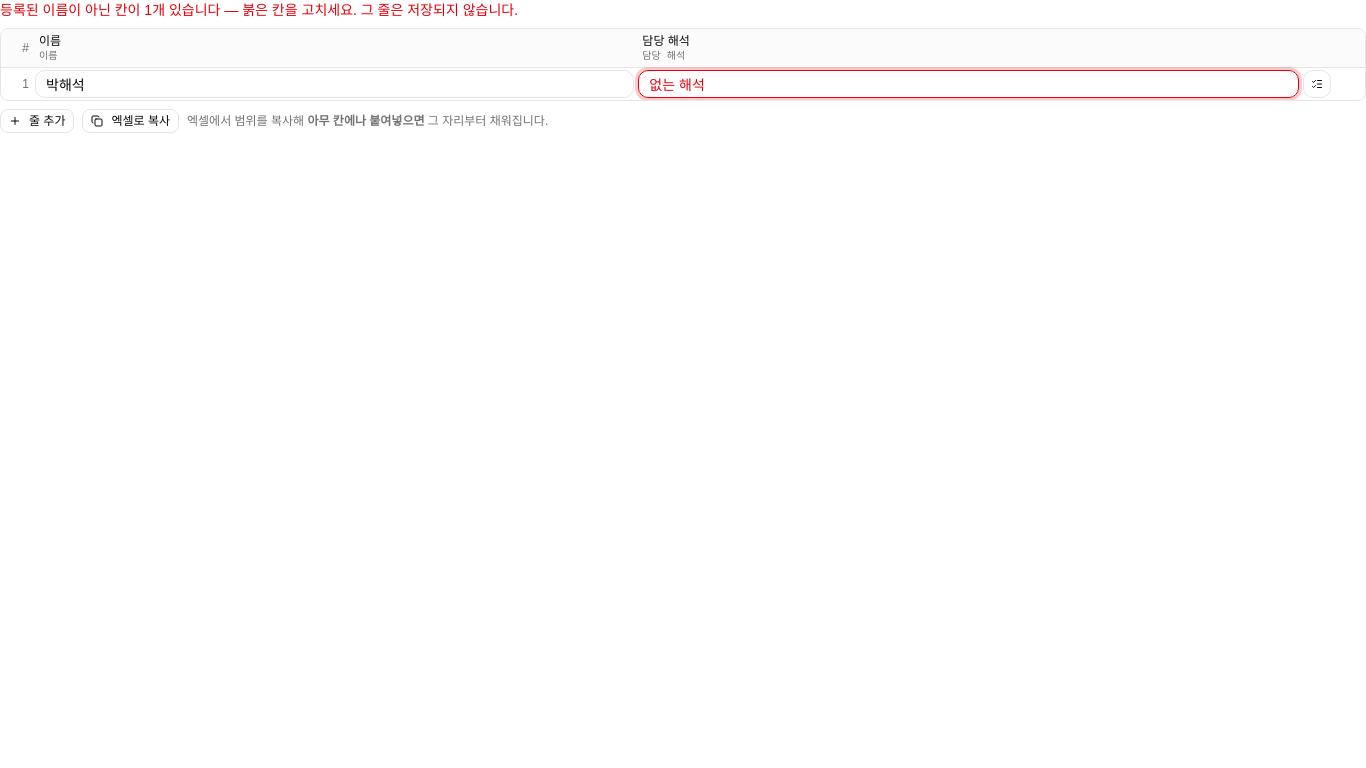
PasteGrid — 여럿 고르는 칸 › 목록에 없는 이름은 고르기가 지우지 않는다 — 남의 입력을 없애면 안 된다
This screenshot has width=1366, height=768.
Step 1. Click the button named "1번 줄 담당 해석 고르기" → point(1317, 84), box [1303, 70, 1331, 98]
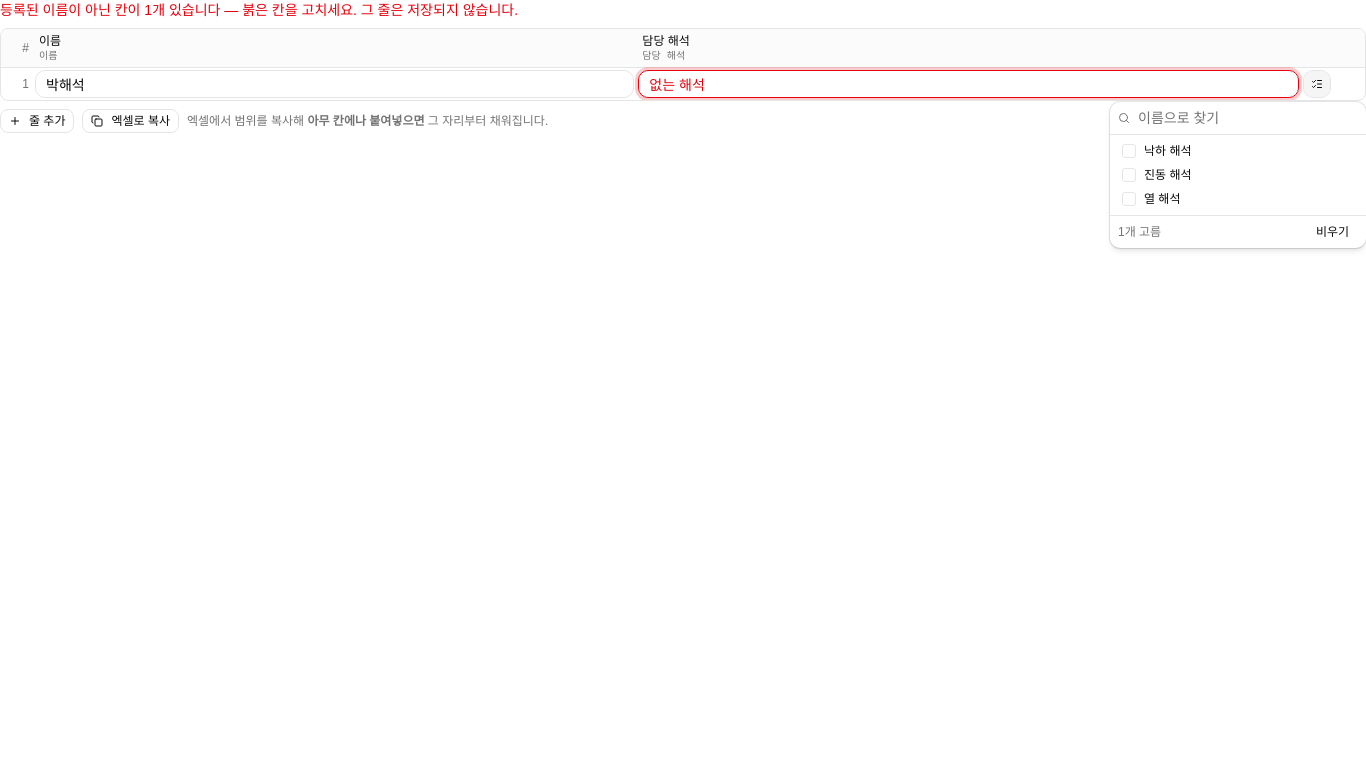
Step 2. Click the button "진동 해석" → point(1238, 175), box [1114, 163, 1362, 187]
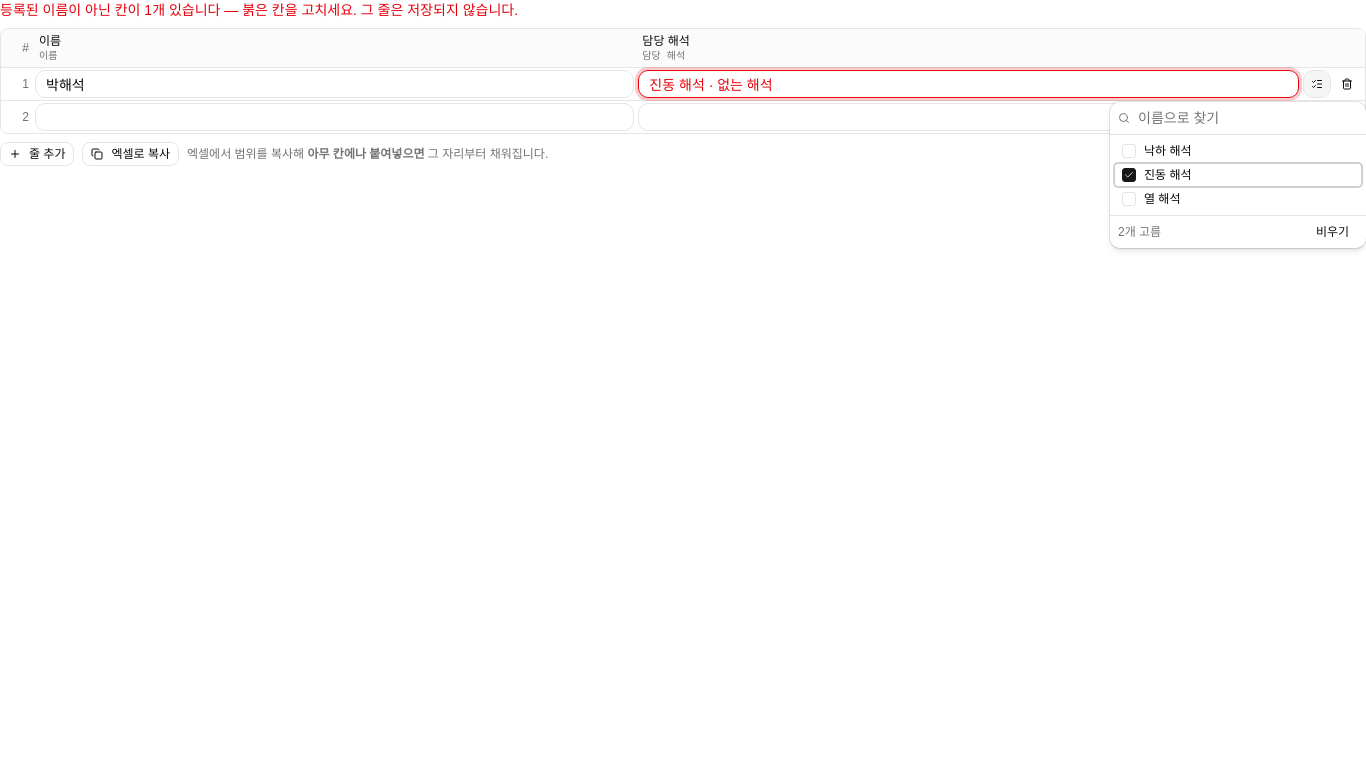
Check: the field named "1번 줄 담당 해석" holds "진동 해석 · 없는 해석", box [638, 70, 1299, 98]
